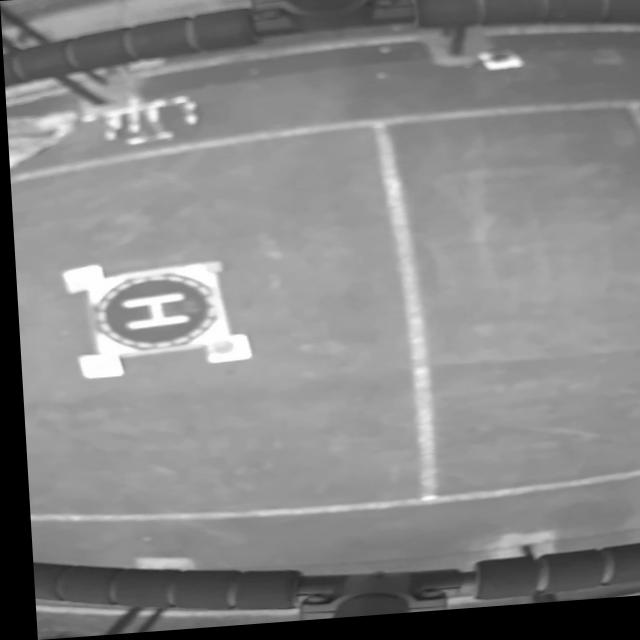Helipad: (118, 293, 188, 330)
